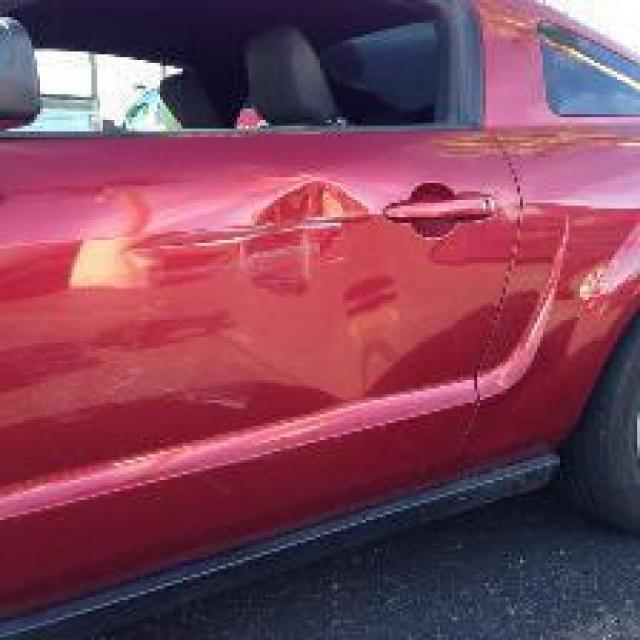damaged: (80, 172, 417, 432), (488, 200, 638, 366)
